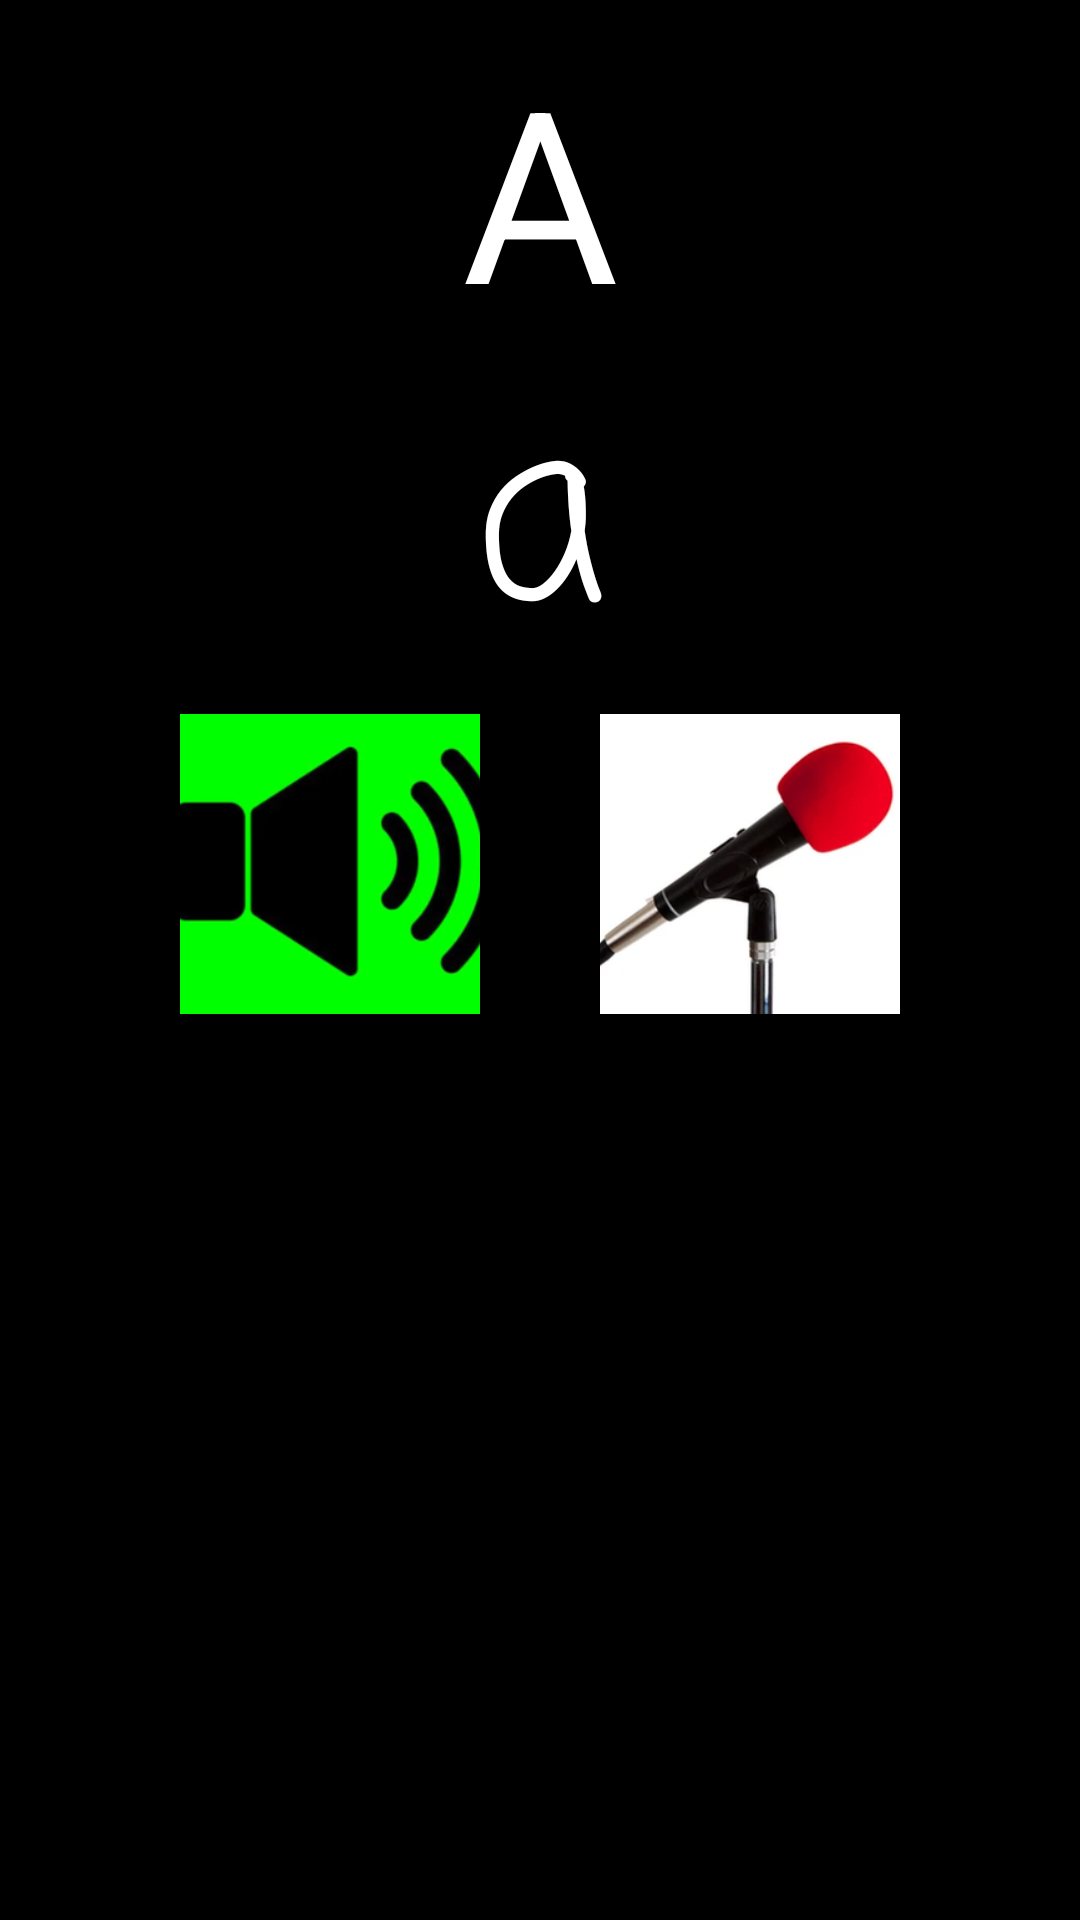

Screen size 1080px x 1920px. Icon name, then its box in pixels as (x1, y1, x2, y2):
micro: (600, 714, 900, 1014)
speaker: (180, 714, 480, 1014)
